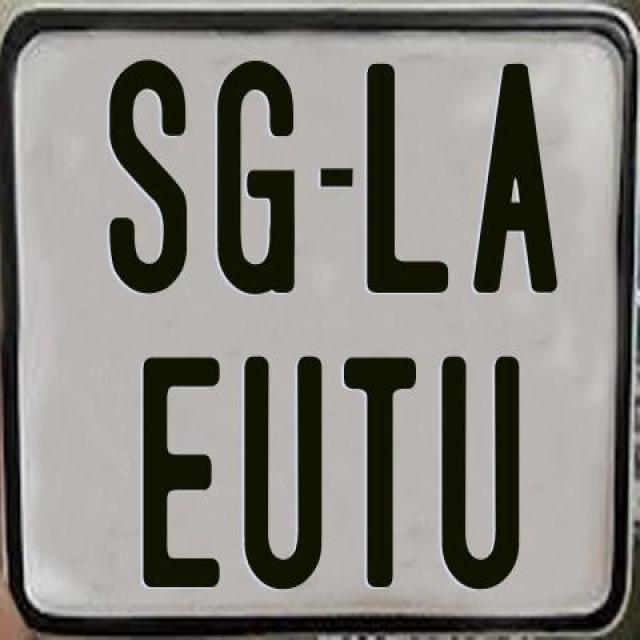A: (469, 59, 559, 291)
E: (143, 352, 224, 589)
G: (215, 59, 298, 299)
L: (364, 61, 451, 296)
S: (108, 59, 186, 299)
T: (342, 357, 422, 590)
U: (240, 356, 324, 588), (440, 353, 520, 588)
